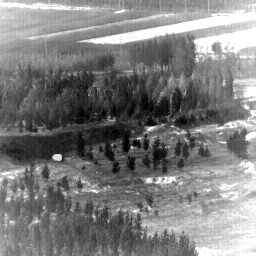Target: (50, 153, 63, 163)
